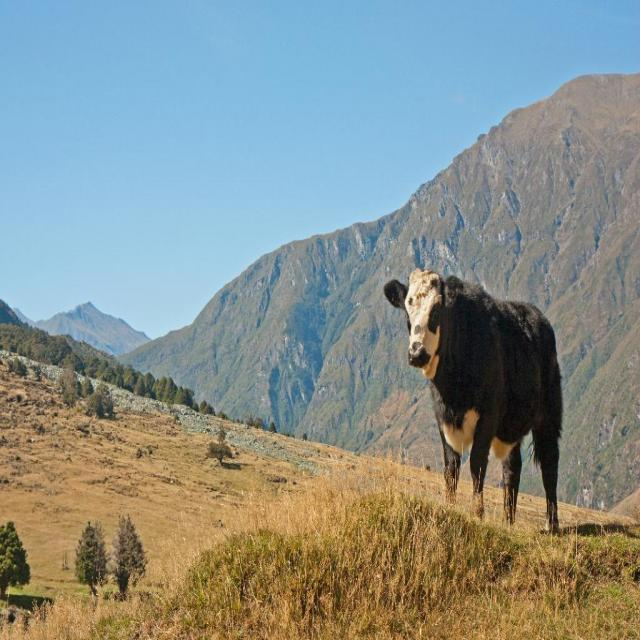Cattle: (383, 266, 564, 536)
